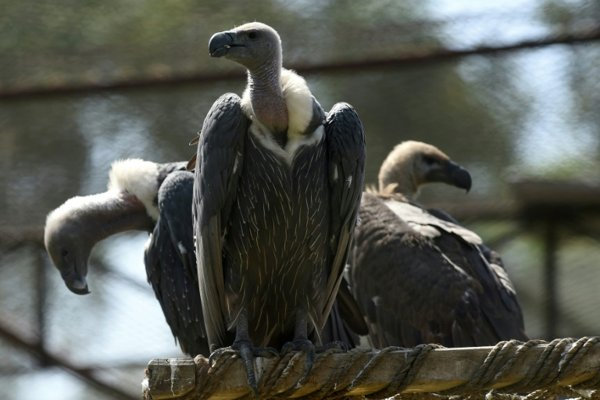Pengoyak Daging: (201, 30, 232, 62), (452, 164, 478, 197)
